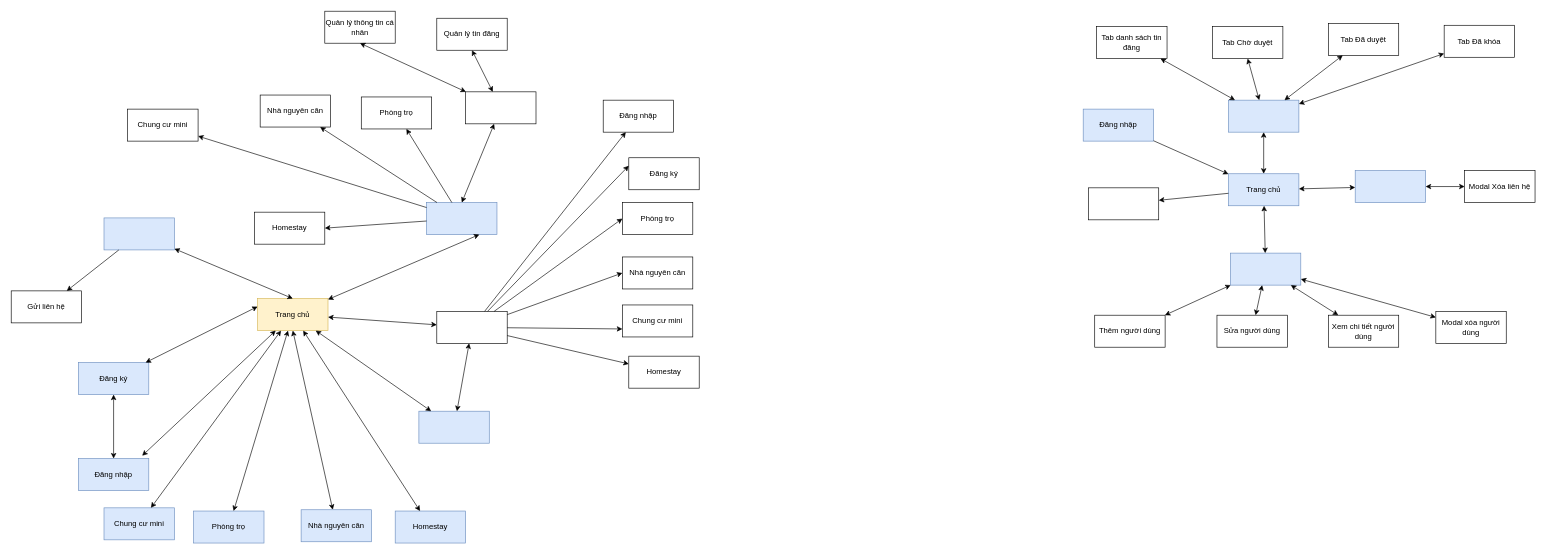
Image size: 1546x554. Some labels were removed from this diagram. The shapes that lost their labels are listed below. From the top down, each one's centre as x and y in pixels, then its label:
At (x=500, y=107): "Trang cá nhân".
At (x=1263, y=116): "Quản lí tin đăng của thành viên".
At (x=1123, y=203): "Thống kê".
At (x=1390, y=186): "Liên hệ".
At (x=138, y=233): "Chi tiết tin đăng".
At (x=461, y=218): "Đăng tin".
At (x=1265, y=268): "Thành viên".
At (x=471, y=327): "Kết quả tìm kiếm".
At (x=453, y=427): "Tìm kiếm".
